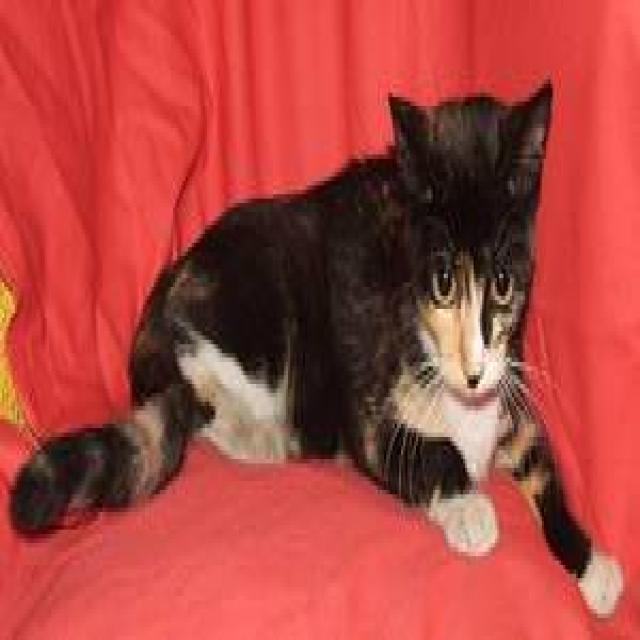cat: (8, 75, 623, 614)
